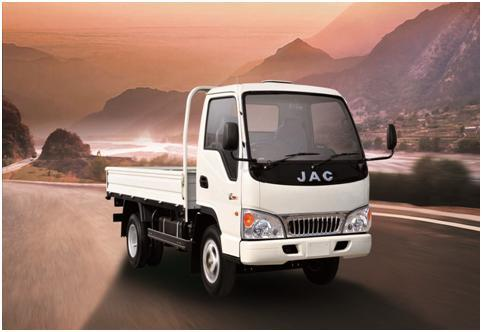truck: (105, 80, 399, 298)
